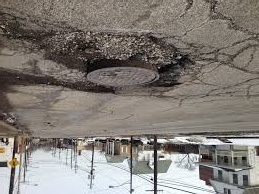pothole: (42, 32, 187, 72), (0, 70, 82, 100), (0, 10, 41, 51), (78, 82, 112, 95), (154, 70, 177, 89)
